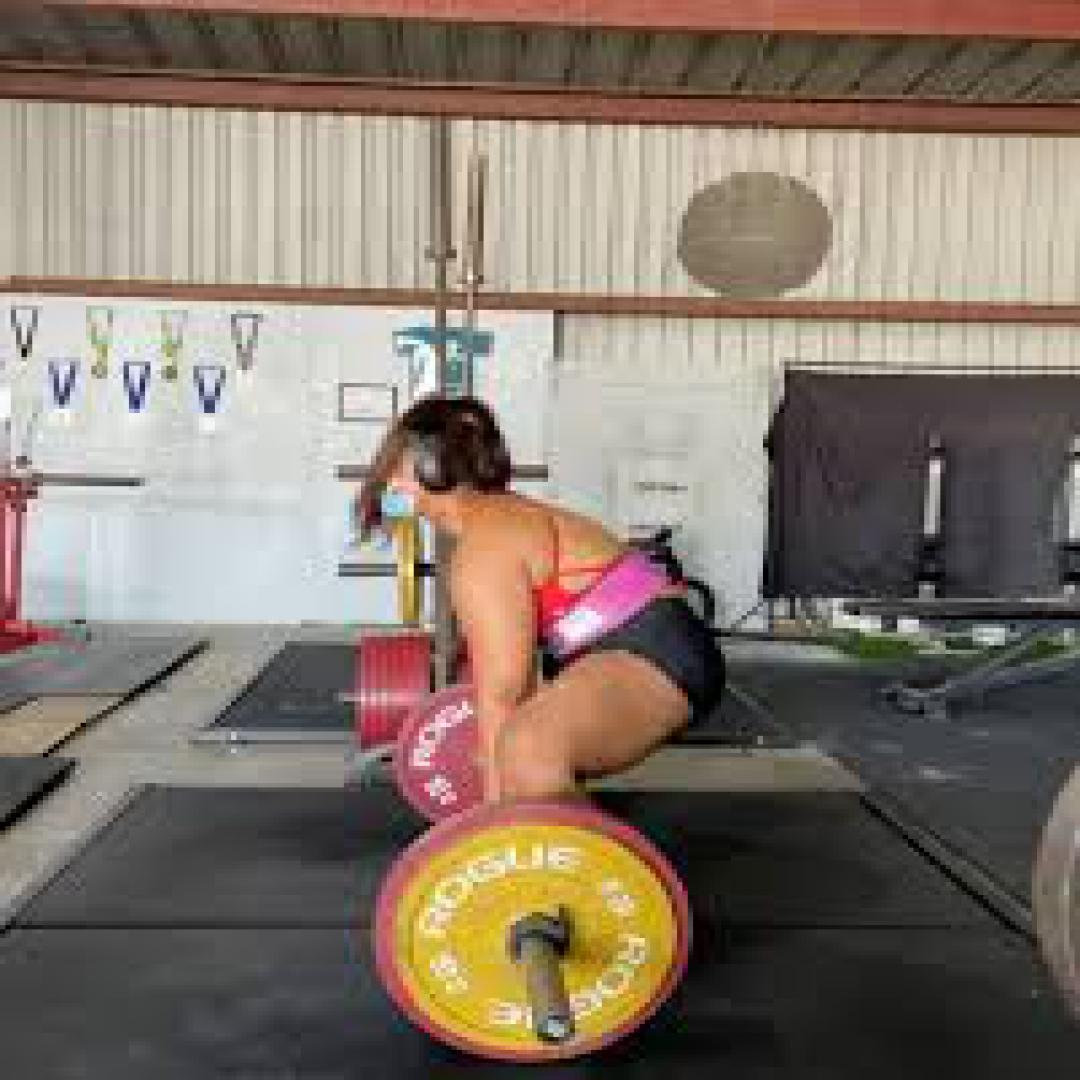Bar: (532, 1011, 580, 1046)
Barbell: (376, 800, 693, 1063)
